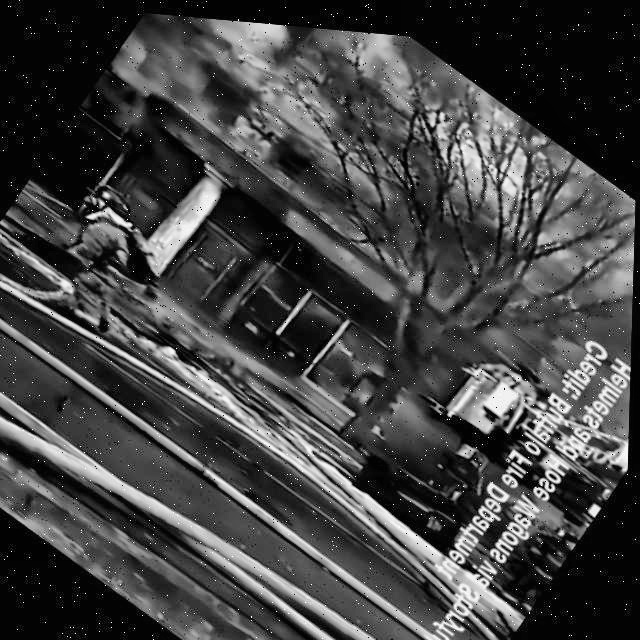Smoke: (77, 6, 343, 200)
